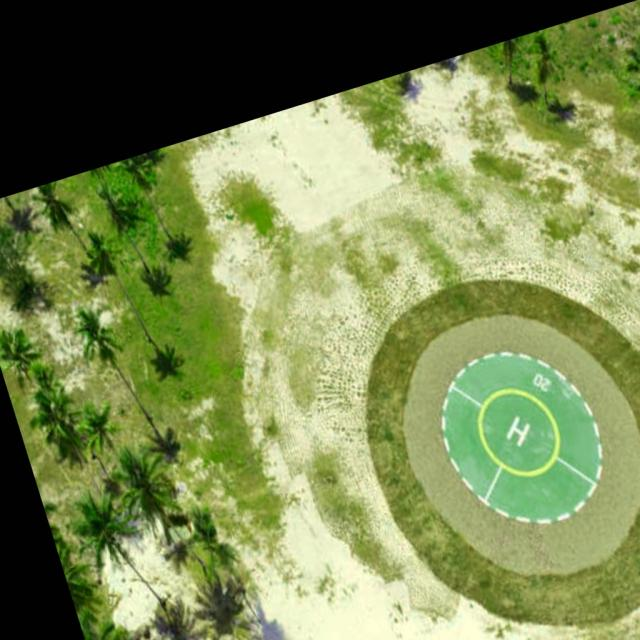helipad: (472, 384, 562, 478)
